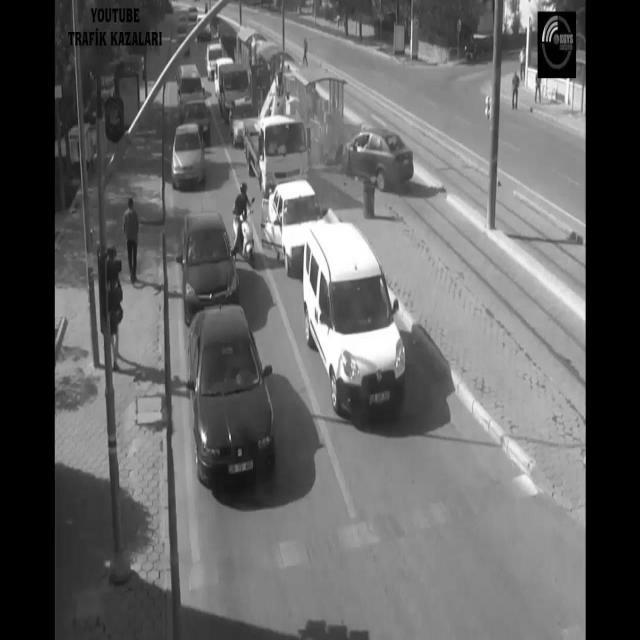moderate: (337, 111, 415, 189)
